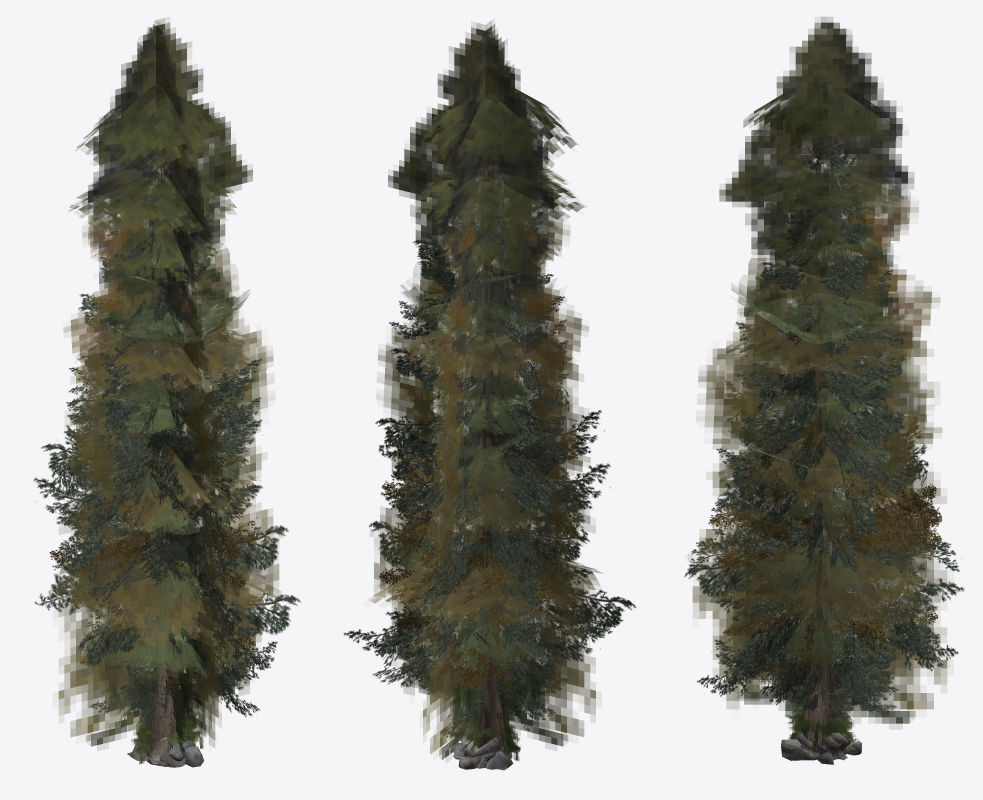
File: low_poly_forest_tree_pack.glb
3 renders of one model, left to right at view 1: azimuth 30°, elevation 25°; view 2: azimuth 150°, elevation 25°; view 3: azimuth 270°, elevation 25°, orthographic.
Parts seen in each view (by area): view 1: fp_larch_b, fp_pine_mid, fp_fir_f, fp_larch_a, fp_pine_tall, fp_fir_h, fp_fir_c, fp_aspen, fp_fir_d, fp_fir_a, fp_pine_small, fp_fir_g (+2 smaller); view 2: fp_larch_b, fp_fir_f, fp_pine_mid, fp_pine_tall, fp_larch_a, fp_aspen, fp_fir_d, fp_fir_a, fp_fir_c, fp_fir_h, fp_pine_small, fp_fir_g (+4 smaller); view 3: fp_larch_b, fp_pine_mid, fp_fir_f, fp_pine_tall, fp_aspen, fp_larch_a, fp_fir_c, fp_fir_h, fp_fir_a, fp_pine_small, fp_fir_d, fp_sapling (+4 smaller).
Boxes of the visible parts, bbox=[...] form: fp_larch_b: bbox=[50, 262, 282, 747]; fp_pine_mid: bbox=[33, 271, 300, 766]; fp_fir_f: bbox=[68, 18, 252, 378]; fp_larch_a: bbox=[62, 176, 273, 600]; fp_pine_tall: bbox=[66, 146, 262, 766]; fp_fir_h: bbox=[100, 170, 244, 523]; fp_fir_c: bbox=[86, 447, 248, 750]; fp_aspen: bbox=[49, 431, 258, 704]; fp_fir_d: bbox=[94, 168, 225, 686]; fp_fir_a: bbox=[90, 400, 236, 724]; fp_pine_small: bbox=[89, 525, 236, 727]; fp_fir_g: bbox=[116, 167, 235, 424]; fp_larch_b: bbox=[369, 303, 603, 754]; fp_fir_f: bbox=[388, 20, 584, 748]; fp_pine_mid: bbox=[343, 298, 636, 758]; fp_pine_tall: bbox=[375, 158, 604, 752]; fp_larch_a: bbox=[377, 176, 590, 556]; fp_aspen: bbox=[379, 429, 588, 701]; fp_fir_d: bbox=[421, 260, 560, 689]; fp_fir_a: bbox=[404, 262, 560, 727]; fp_fir_c: bbox=[402, 449, 567, 762]; fp_fir_h: bbox=[408, 235, 556, 438]; fp_pine_small: bbox=[415, 522, 566, 737]; fp_fir_g: bbox=[421, 215, 537, 408]; fp_larch_b: bbox=[688, 252, 947, 735]; fp_pine_mid: bbox=[684, 276, 964, 728]; fp_fir_f: bbox=[719, 17, 913, 694]; fp_pine_tall: bbox=[725, 132, 915, 743]; fp_aspen: bbox=[710, 416, 942, 686]; fp_larch_a: bbox=[697, 168, 941, 617]; fp_fir_c: bbox=[730, 366, 915, 728]; fp_fir_h: bbox=[740, 163, 898, 454]; fp_fir_a: bbox=[745, 158, 906, 706]; fp_pine_small: bbox=[752, 493, 898, 720]; fp_fir_d: bbox=[745, 156, 901, 626]; fp_sapling: bbox=[786, 685, 858, 741].
Size of the model in its own units: 7.63 by 21 by 7.64.
6 materials, 6 textured.
